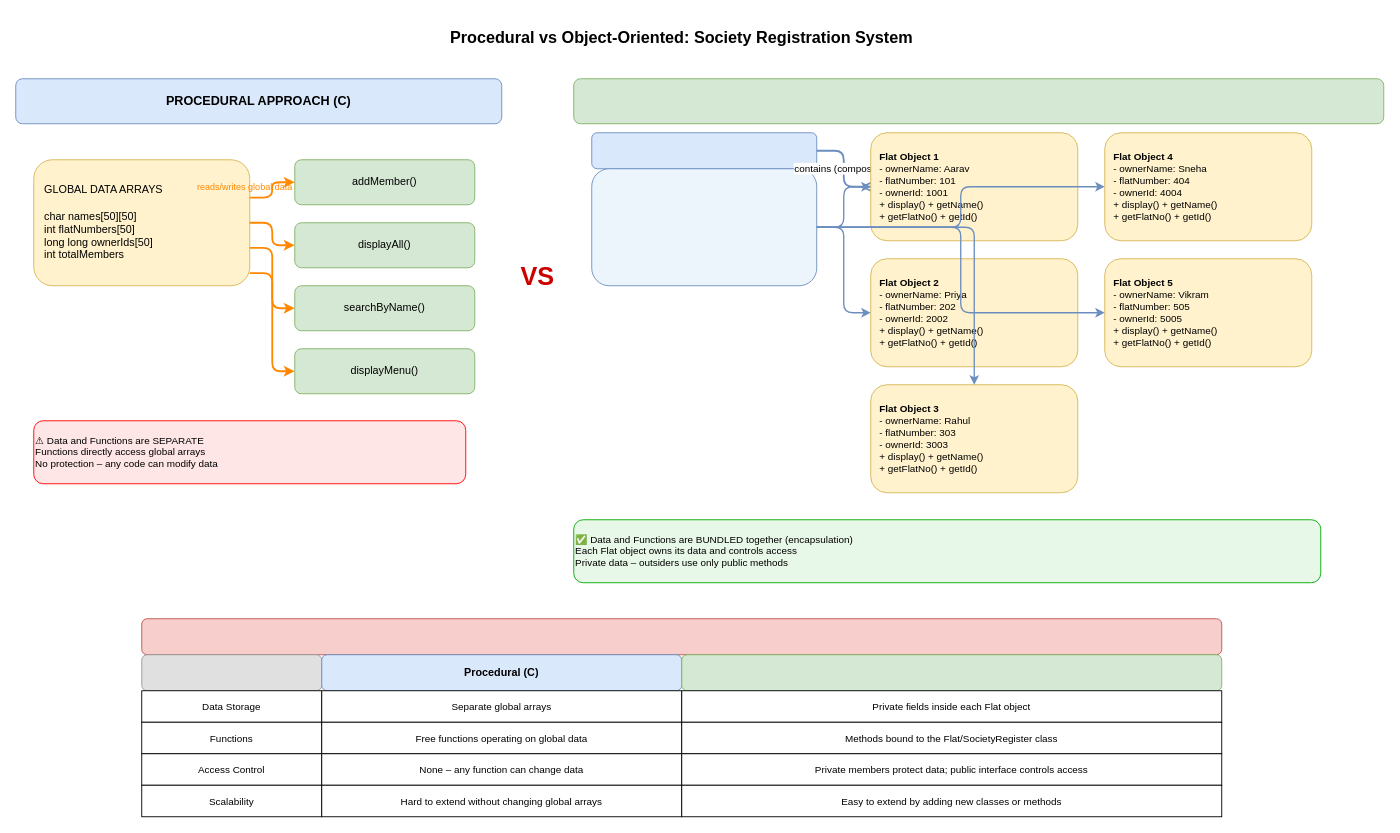
This 1400x833 diagram has some shape labels left out. The shapes that lost their labels are listed below. From the top down, each one's centre as x and y in pixels, then its label:
(978,101): OBJECT-ORIENTED APPROACH (C++)
(704,150): class SocietyRegister
(704,227): - members[50] : Flat - total : int + addMember() + displayAll() + searchByName()
(681,636): KEY DIFFERENCES
(231,672): Aspect
(951,672): OOP (C++)
